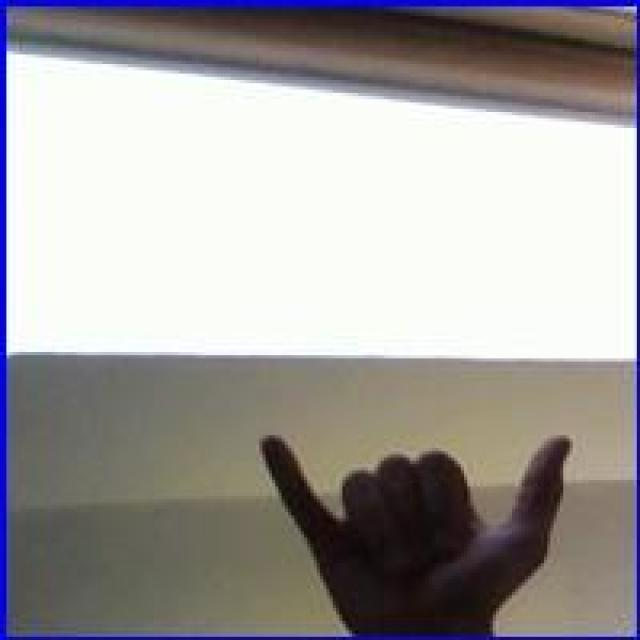Y: (250, 422, 576, 621)
